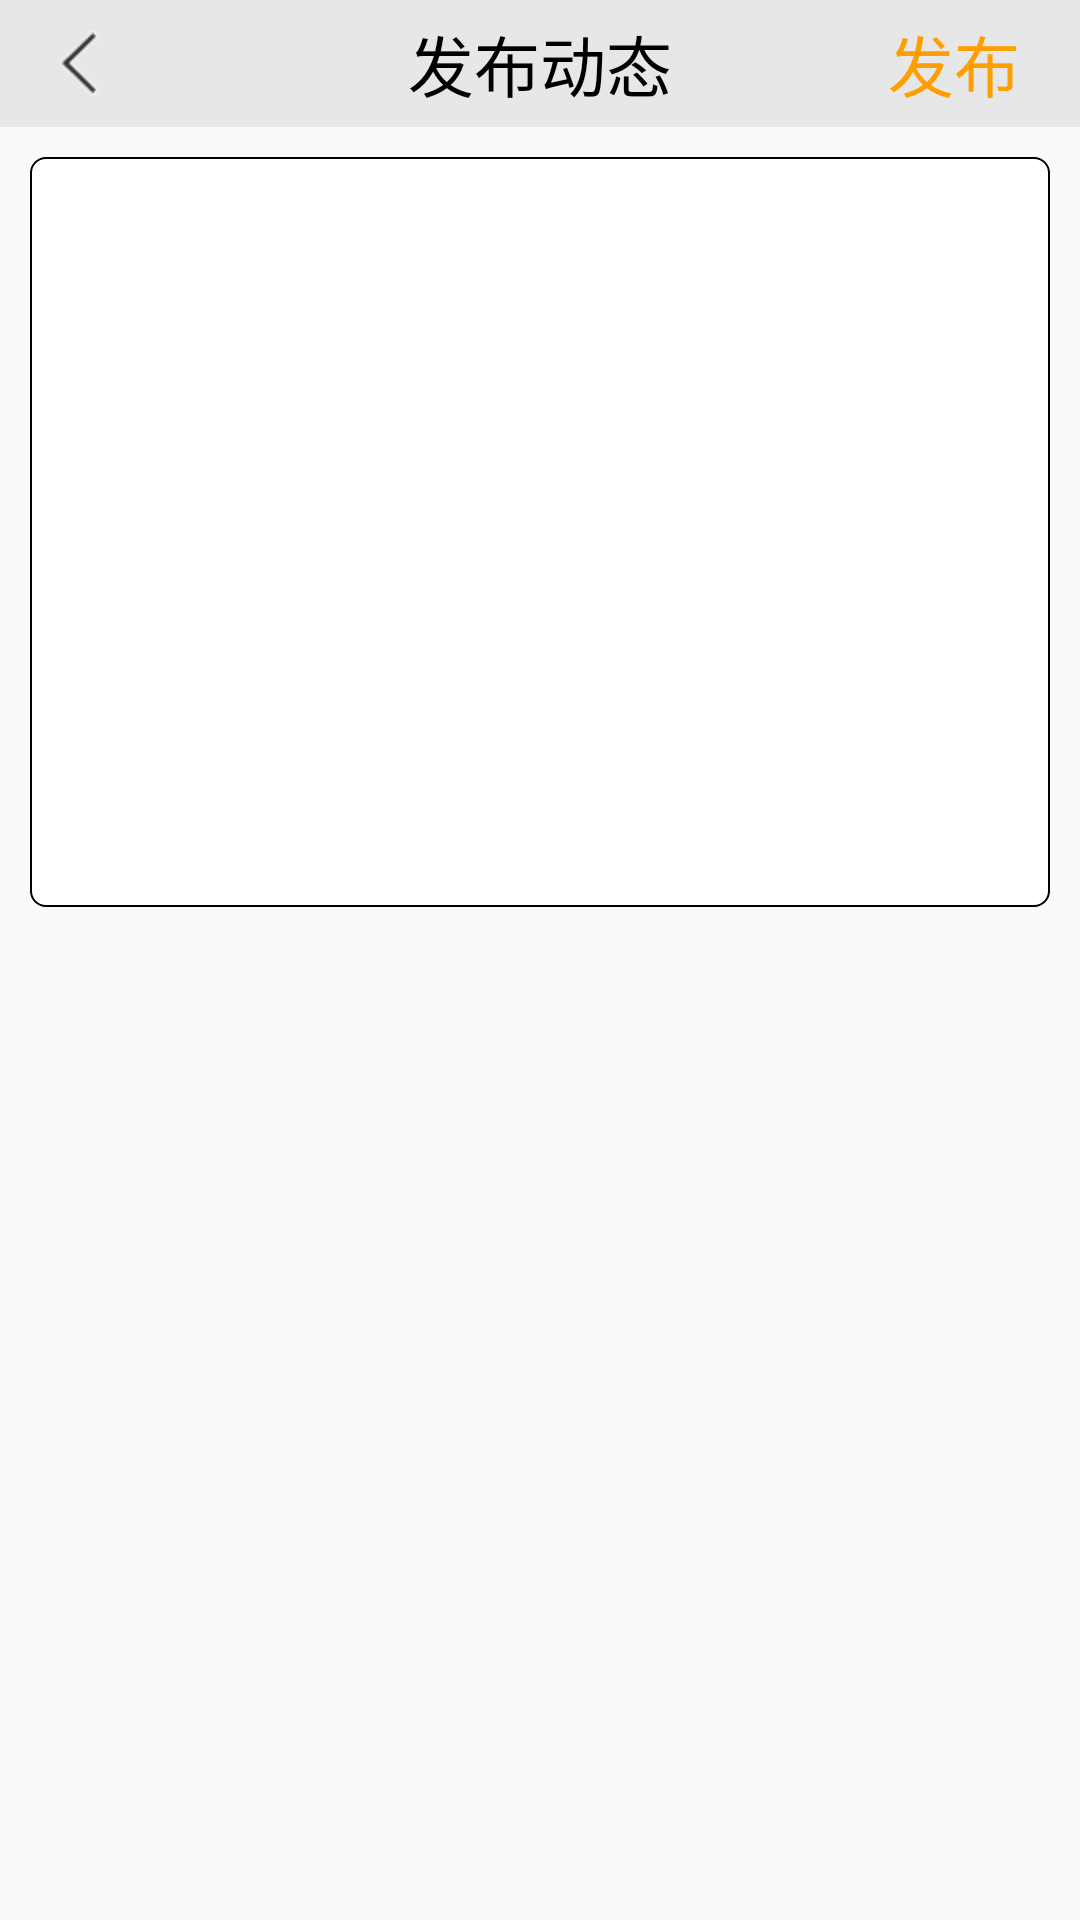

Screen size 1080w x 1920h. Icon name, then its box in pixels as box(x1, y1, x2, y2):
arrow left back: box(62, 33, 96, 93)
